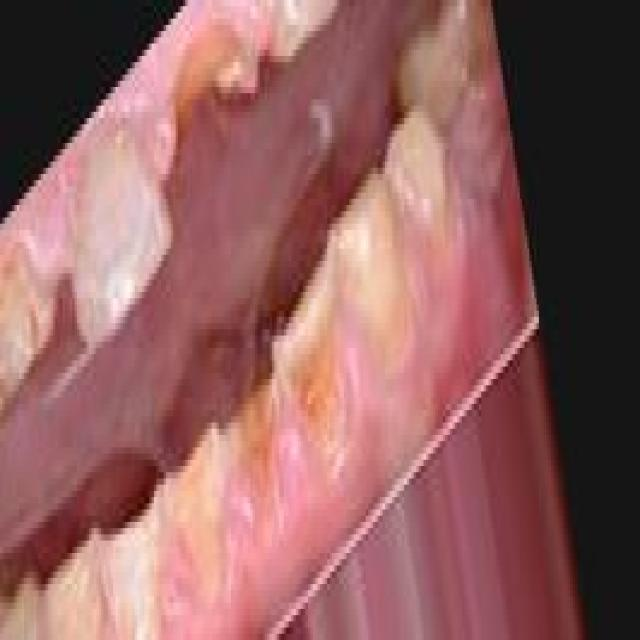caries: (278, 268, 340, 468), (168, 11, 264, 132), (166, 424, 226, 607), (226, 372, 276, 554), (97, 504, 161, 640), (0, 234, 61, 370), (456, 15, 499, 145)
